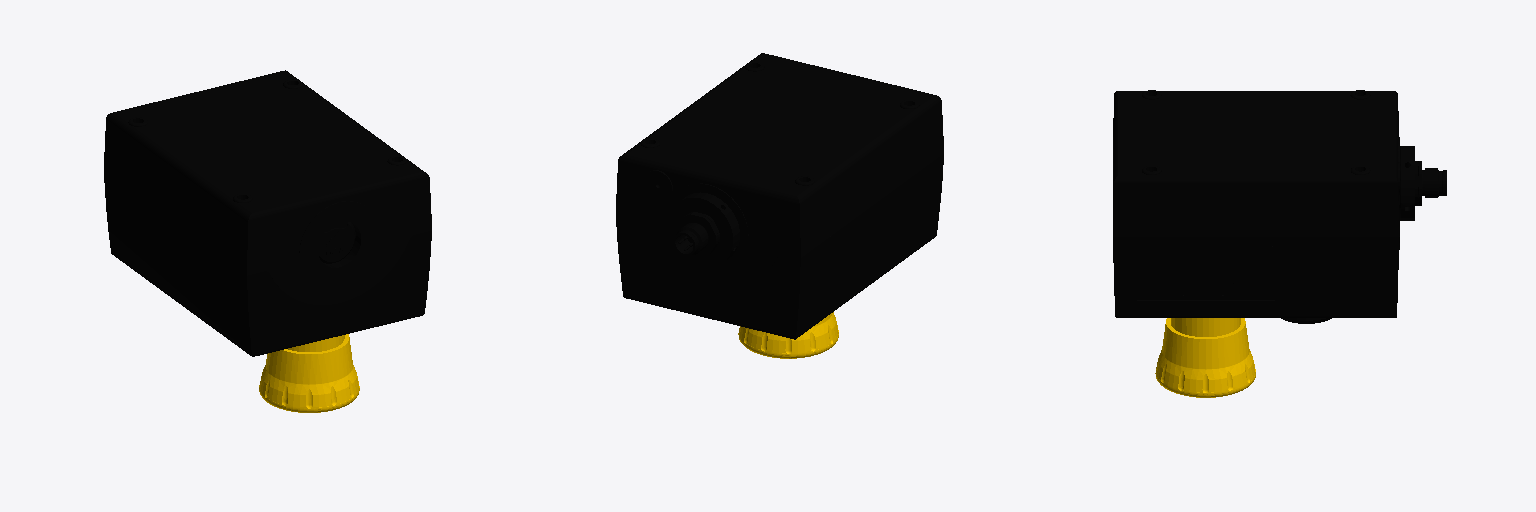
The model's file is Siemens_sledzis.obj.
3 renders of one model, left to right at view 1: azimuth 30°, elevation 25°; view 2: azimuth 150°, elevation 25°; view 3: azimuth 270°, elevation 25°, orthographic.
Visible parts, largest first — view 1: Part__Feature002, Part__Feature001; view 2: Part__Feature002, Part__Feature001; view 3: Part__Feature002, Part__Feature001.
Part boxes in pixels (left/top/right/bottom): Part__Feature002: left=104, top=70, right=431, bottom=356; Part__Feature001: left=259, top=334, right=359, bottom=412; Part__Feature002: left=616, top=53, right=943, bottom=339; Part__Feature001: left=738, top=312, right=838, bottom=358; Part__Feature002: left=1113, top=90, right=1446, bottom=317; Part__Feature001: left=1155, top=318, right=1255, bottom=397.
Size of the model in its own units: 85.04 by 109 by 133.